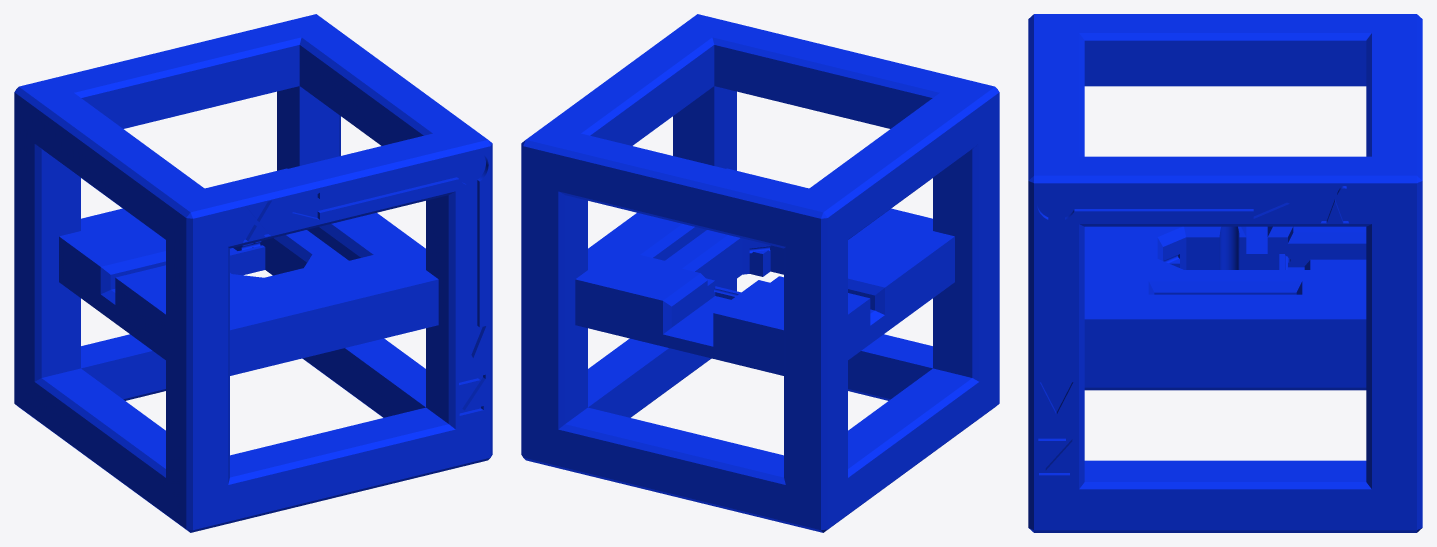
File: neblina_calibration.dae
3 renders of one model, left to right at view 1: azimuth 30°, elevation 25°; view 2: azimuth 150°, elevation 25°; view 3: azimuth 270°, elevation 25°, orthographic. The views are drawn at different scales.
Parts seen in each view (by area): view 1: node; view 2: node; view 3: node.
Boxes of the visible parts, x1,y1,x2,y2 form: node: (14,14,492,532); node: (521,14,999,532); node: (1028,14,1422,532).
Size of the model in its own units: 10.5 by 10.5 by 10.5.
